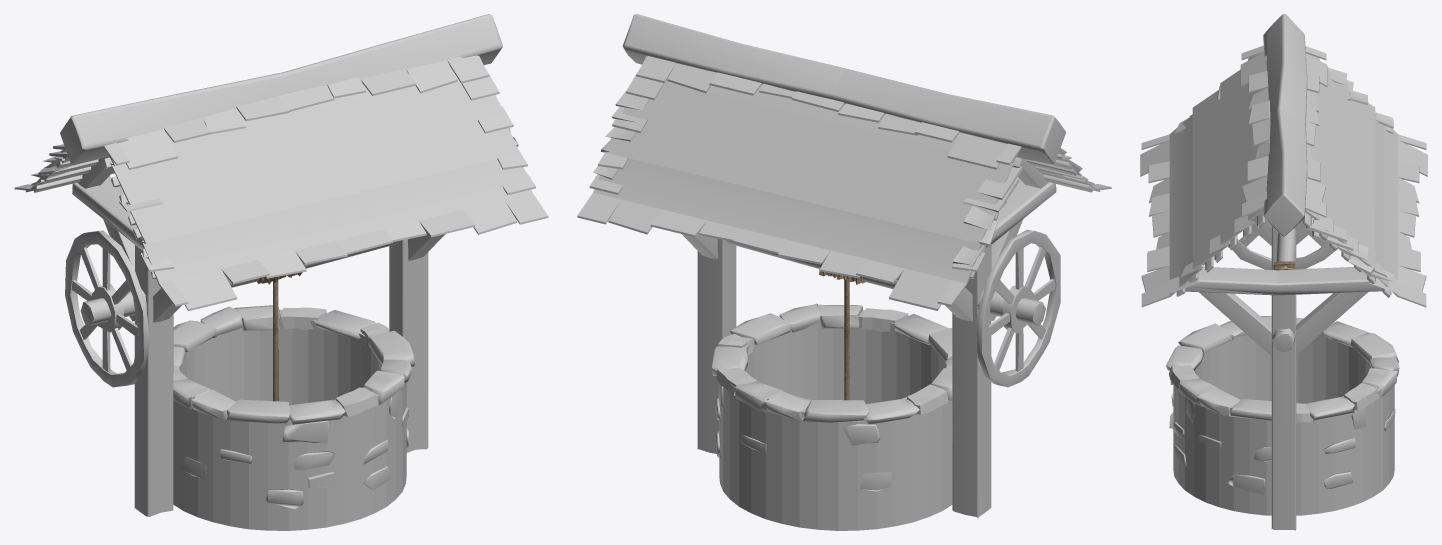
The model's file is SM_Well.fbx.
The picture shows the model from 3 angles, left to right: view 1: azimuth 30°, elevation 25°; view 2: azimuth 150°, elevation 25°; view 3: azimuth 270°, elevation 25°; orthographic projection. The views are drawn at different scales.
Visible parts, largest first — view 1: SM_Well_LOD0; view 2: SM_Well_LOD0; view 3: SM_Well_LOD0.
Boxes of the visible parts, left/top/right/bottom form: SM_Well_LOD0: left=14, top=14, right=548, bottom=530; SM_Well_LOD0: left=577, top=14, right=1111, bottom=530; SM_Well_LOD0: left=1140, top=14, right=1427, bottom=530.
Size of the model in its own units: 310 by 207 by 292.
